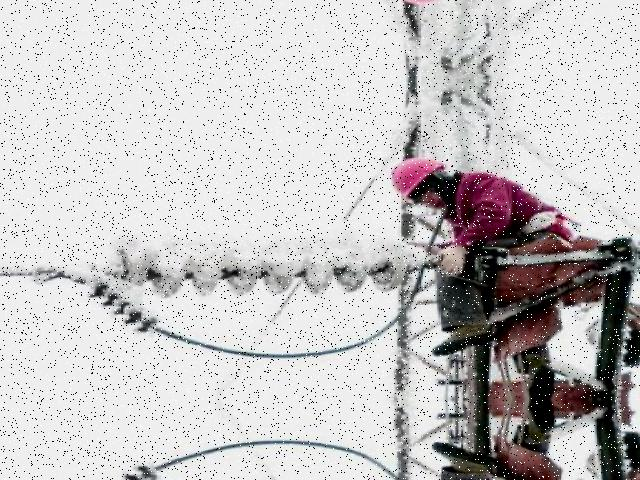Helmet: (384, 153, 452, 200)
